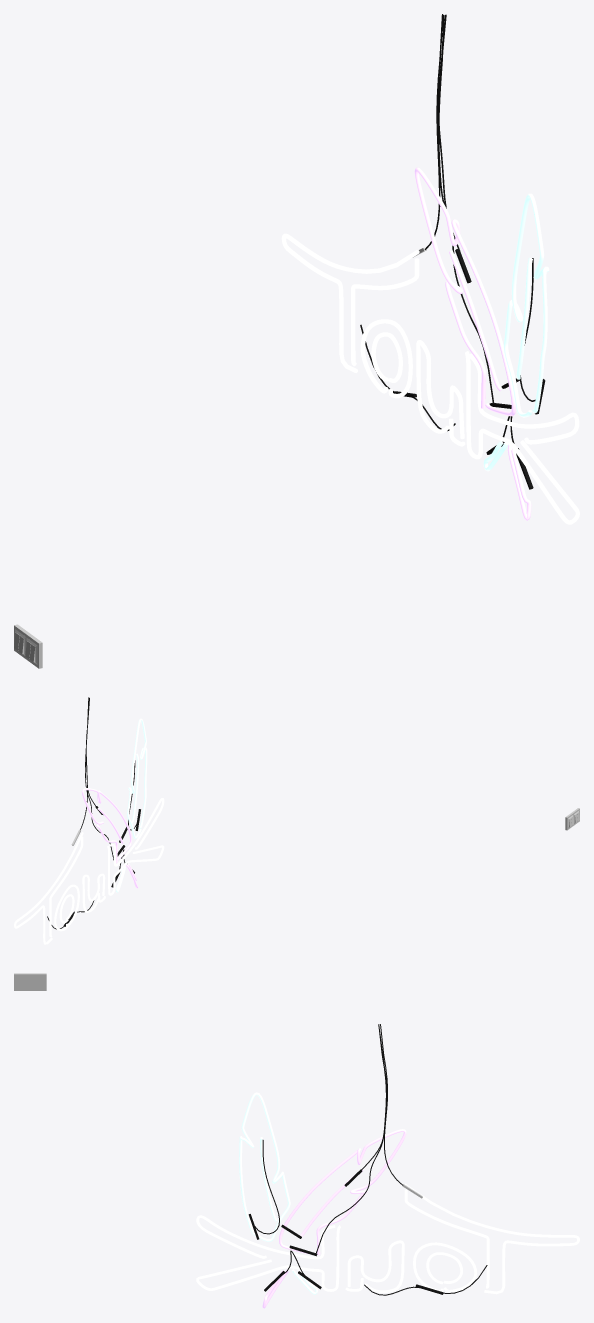
Rendered from neon.gltf.
3 renders of one model, top to bottom at view 1: azimuth 30°, elevation 25°; view 2: azimuth 150°, elevation 25°; view 3: azimuth 270°, elevation 25°, orthographic. The views are drawn at different scales.
Parts seen in each view (by area): view 1: NurbsPath.001, NurbsPath.003, NurbsPath.002; view 2: NurbsPath.001, NurbsPath.002, NurbsPath.003; view 3: NurbsPath.001, NurbsPath.003, NurbsPath.002, switch_container.
Boxes of the visible parts, x1,y1,x2,y2 form: NurbsPath.001: [281, 233, 579, 524]; NurbsPath.003: [414, 167, 531, 520]; NurbsPath.002: [483, 193, 549, 471]; NurbsPath.001: [14, 798, 164, 944]; NurbsPath.002: [116, 718, 147, 892]; NurbsPath.003: [81, 788, 138, 888]; NurbsPath.001: [196, 1183, 579, 1294]; NurbsPath.003: [262, 1129, 406, 1308]; NurbsPath.002: [239, 1092, 317, 1294]; switch_container: [14, 973, 46, 990].
Size of the model in its own units: 2.65 by 1.61 by 2.89.
